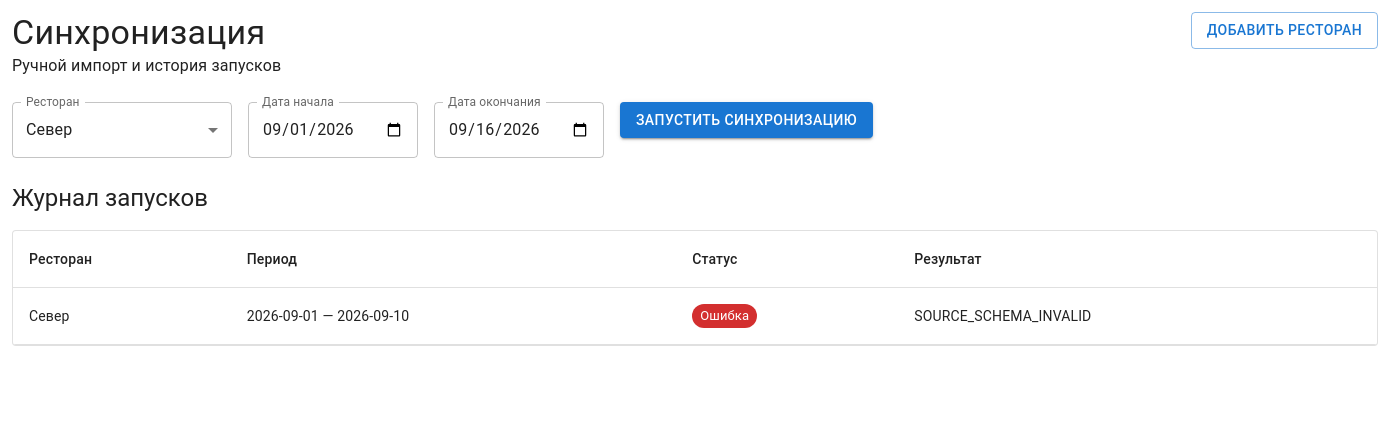
it: SyncPage › validates dates, enqueues a run and renders only safe history details
Expected: the text "SOURCE_SCHEMA_INVALID" is shown, [898,288,1377,344]
In the date field labelled "Дата начала": (333, 130) [248,102,418,158], type "2026-09-12"
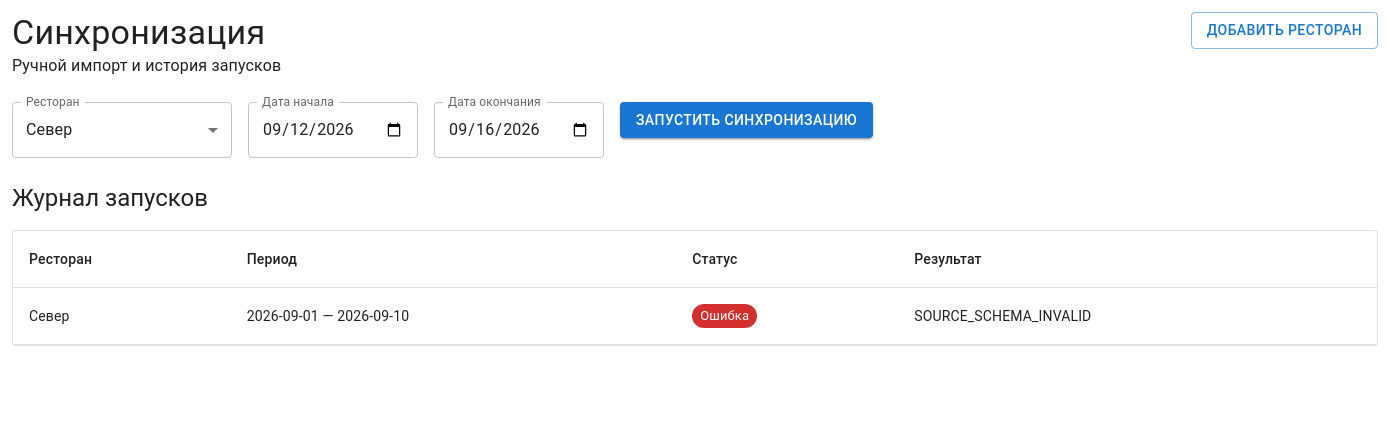
In the date field labelled "Дата окончания": (519, 130) [434,102,604,158], type "2026-09-11"
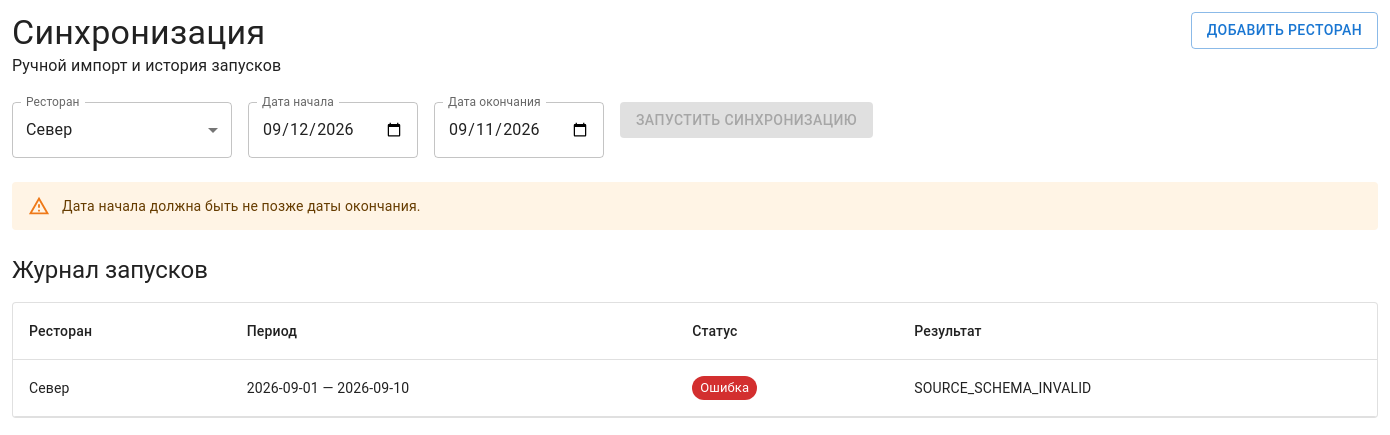
Result: the message reads "Дата начала должна быть не позже даты окончания." at [62,198,421,214]
Result: the button "Запустить синхронизацию" is disabled at [620,102,873,138]
In the date field labelled "Дата окончания": (519, 130) [434,102,604,158], type "2026-09-16"
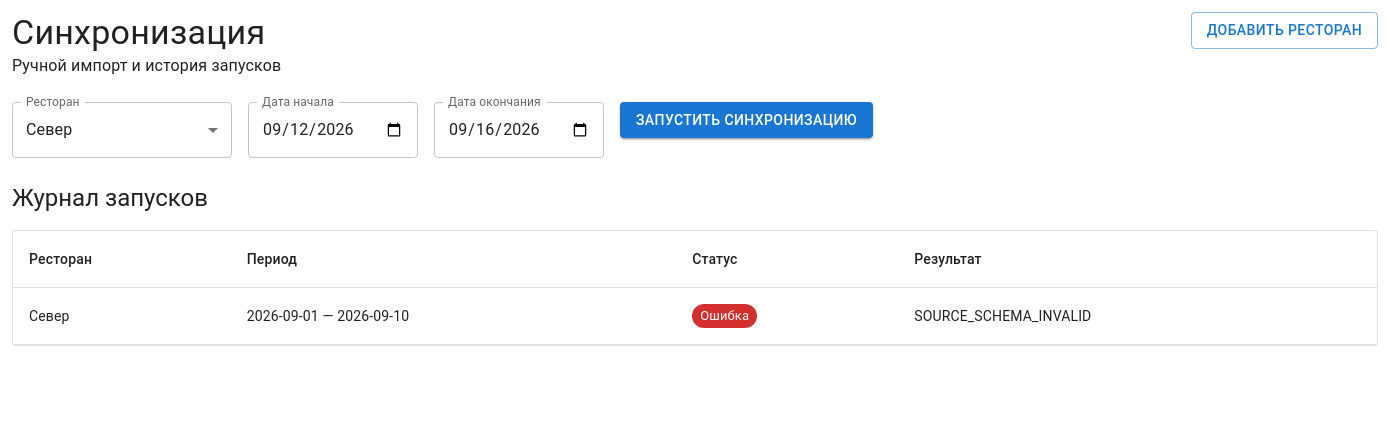
Click the button "Запустить синхронизацию": click(747, 120) [620,102,873,138]
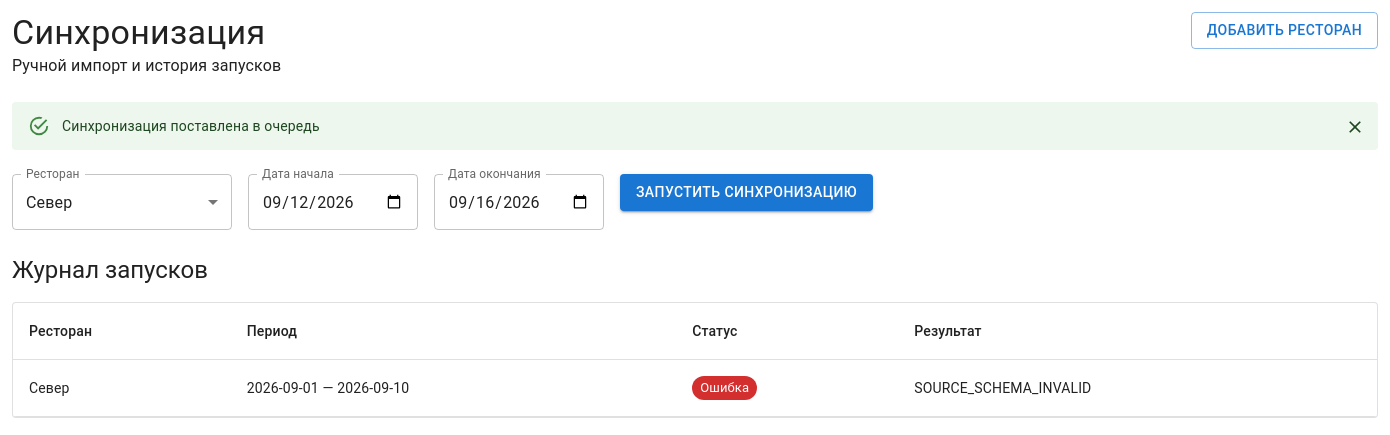
Result: the message reads "Синхронизация поставлена в очередь" at [62,118,320,134]
